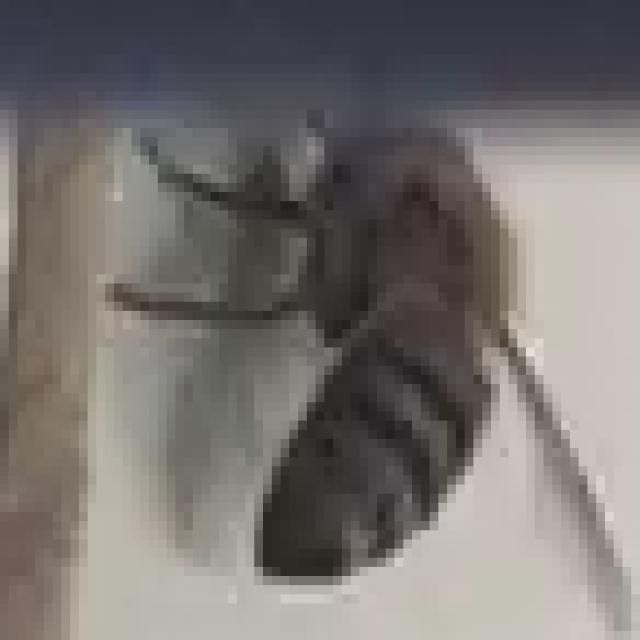honeybee: (145, 104, 575, 608)
